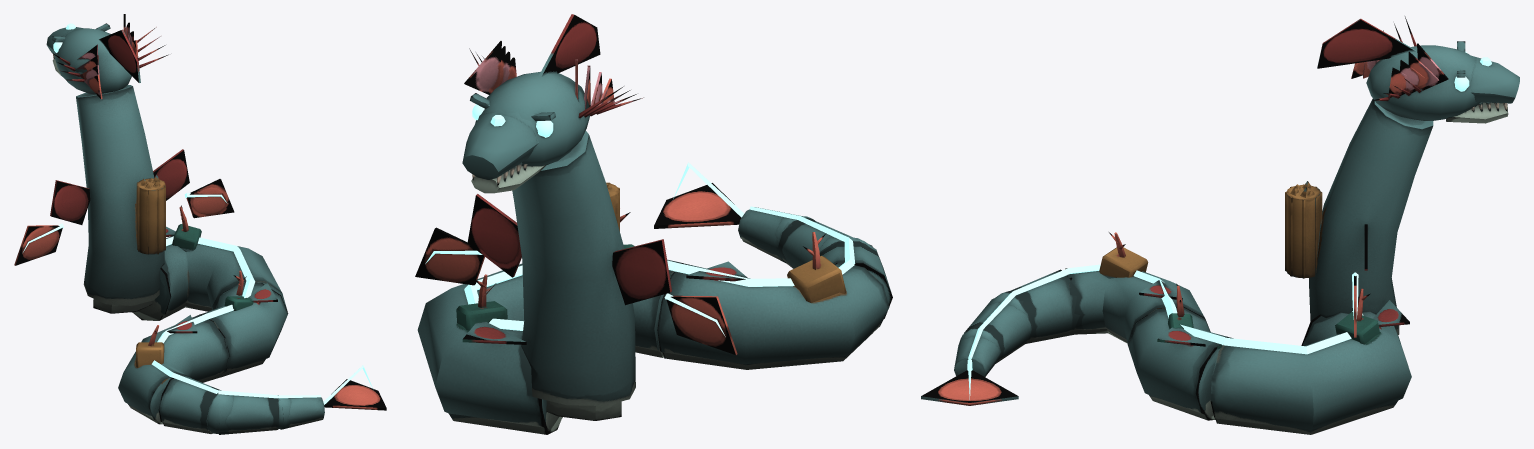
The model's file is boss_tidal_leviathan.fbx.
3 renders of one model, left to right at view 1: azimuth 30°, elevation 25°; view 2: azimuth 150°, elevation 25°; view 3: azimuth 270°, elevation 25°, orthographic. The views are drawn at different scales.
Visible parts, largest first — view 1: Body, LegR, LegL, KneeR, Head, ExtraTail1, ExtraTail2, KneeL, ExtraFrill, ArmL, ForearmL, ForearmR (+3 smaller); view 2: Body, LegL, LegR, Head, ExtraTail2, ArmL, ExtraFrill, ArmR, ForearmL, ForearmR, ExtraTail1, KneeR (+6 smaller); view 3: Body, LegR, Head, KneeR, LegL, ExtraTail2, KneeL, ExtraFrill, ExtraTail1, LegR_Glow_Aqua, ExtraJaw.
Part boxes in pixels (left/top/right/bottom): Body: left=76, top=85, right=165, bottom=313; LegR: left=132, top=205, right=287, bottom=320; LegL: left=118, top=314, right=229, bottom=424; KneeR: left=200, top=270, right=288, bottom=377; Head: left=46, top=23, right=140, bottom=94; ExtraTail1: left=207, top=393, right=278, bottom=434; ExtraTail2: left=275, top=379, right=386, bottom=429; KneeL: left=158, top=373, right=221, bottom=433; ExtraFrill: left=52, top=14, right=168, bottom=99; ArmL: left=50, top=180, right=90, bottom=224; ForearmL: left=14, top=225, right=62, bottom=265; ForearmR: left=186, top=179, right=234, bottom=218; Body: left=512, top=131, right=635, bottom=420; LegL: left=657, top=232, right=889, bottom=369; LegR: left=417, top=263, right=562, bottom=434; Head: left=462, top=14, right=600, bottom=186; ExtraTail2: left=654, top=183, right=814, bottom=263; ArmL: left=612, top=239, right=671, bottom=305; ExtraFrill: left=464, top=41, right=643, bottom=117; ArmR: left=467, top=194, right=521, bottom=277; ForearmL: left=666, top=295, right=737, bottom=354; ForearmR: left=415, top=227, right=484, bottom=285; ExtraTail1: left=778, top=217, right=876, bottom=268; KneeR: left=620, top=212, right=682, bottom=357; Body: left=1285, top=98, right=1433, bottom=334; LegR: left=1210, top=288, right=1411, bottom=434; Head: left=1317, top=18, right=1519, bottom=120; KneeR: left=1128, top=283, right=1232, bottom=420; LegL: left=1065, top=232, right=1207, bottom=344; ExtraTail2: left=921, top=328, right=1018, bottom=405; KneeL: left=1006, top=269, right=1080, bottom=343; ExtraFrill: left=1351, top=16, right=1448, bottom=101; ExtraTail1: left=964, top=291, right=1033, bottom=363; LegR_Glow_Aqua: left=1223, top=311, right=1363, bottom=354; ExtraJaw: left=1446, top=102, right=1508, bottom=123.
Bounding box in the file's own units: 1253 × 1484 × 2262.
Materials: 2 (1 with a texture image).
